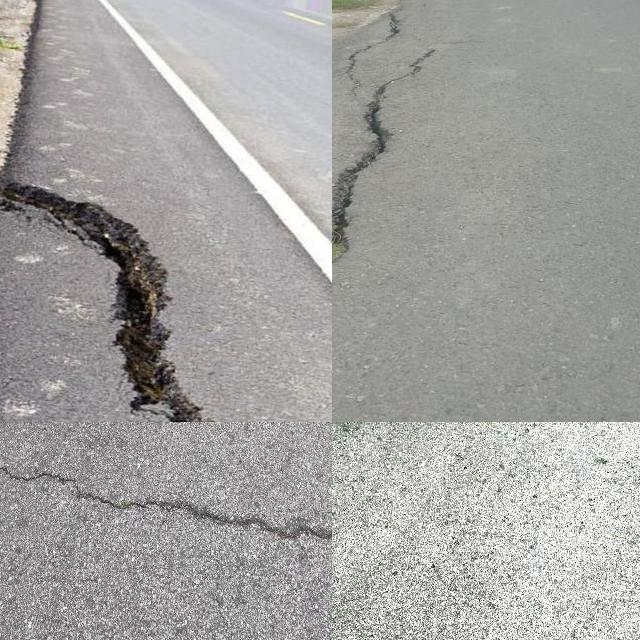Melintang: (0, 442, 332, 555)
Memanjang: (332, 40, 457, 312)
Pinggir: (0, 165, 220, 422)
